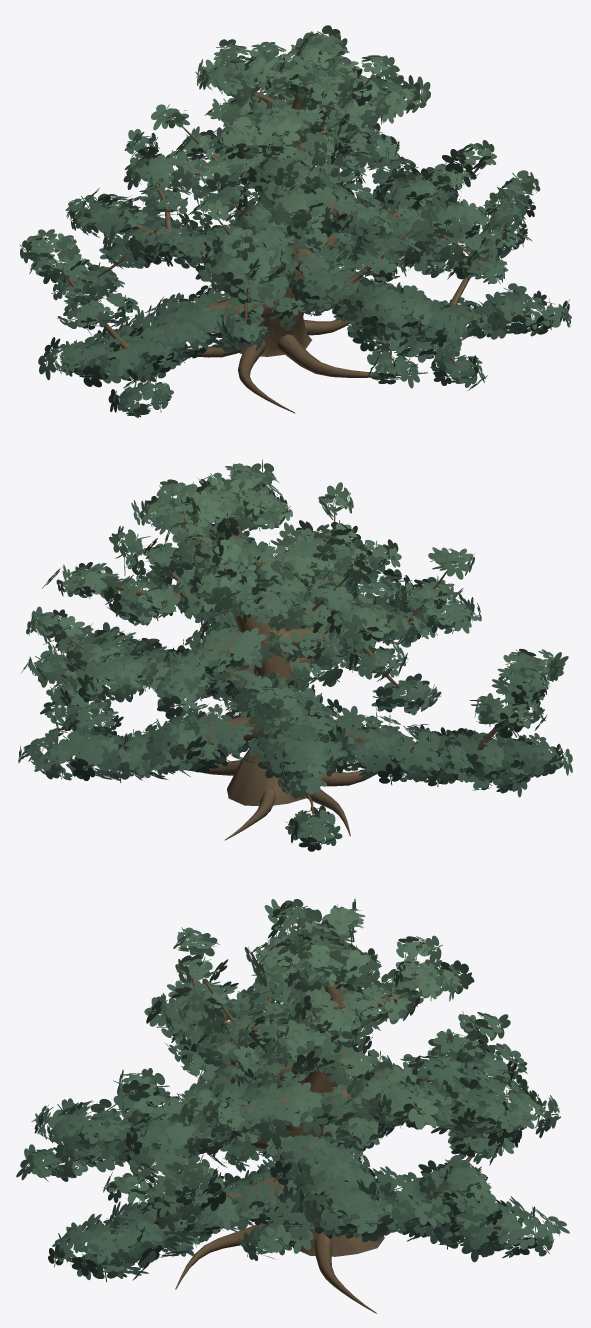
Rendered from tree.gltf.
3 renders of one model, top to bottom at view 1: azimuth 30°, elevation 25°; view 2: azimuth 150°, elevation 25°; view 3: azimuth 270°, elevation 25°, orthographic. The views are drawn at different scales.
Visible parts, largest first — view 1: Tree_LOD0; view 2: Tree_LOD0; view 3: Tree_LOD0.
Boxes of the visible parts, left/top/right/bottom form: Tree_LOD0: left=19, top=25, right=571, bottom=417; Tree_LOD0: left=18, top=459, right=572, bottom=851; Tree_LOD0: left=16, top=899, right=569, bottom=1313.
Size of the model in its own units: 12.84 by 7.58 by 11.29.
2 materials, 2 textured.
